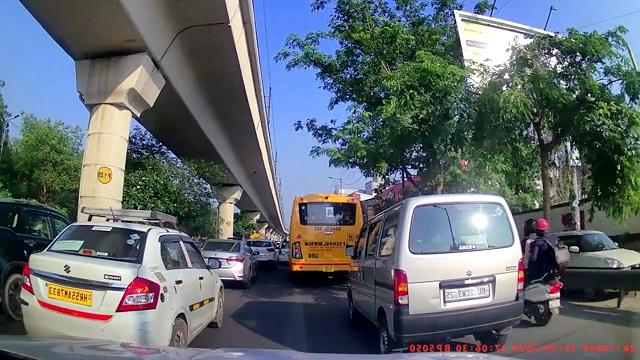passenger_with_helmet: (521, 217, 569, 325)
